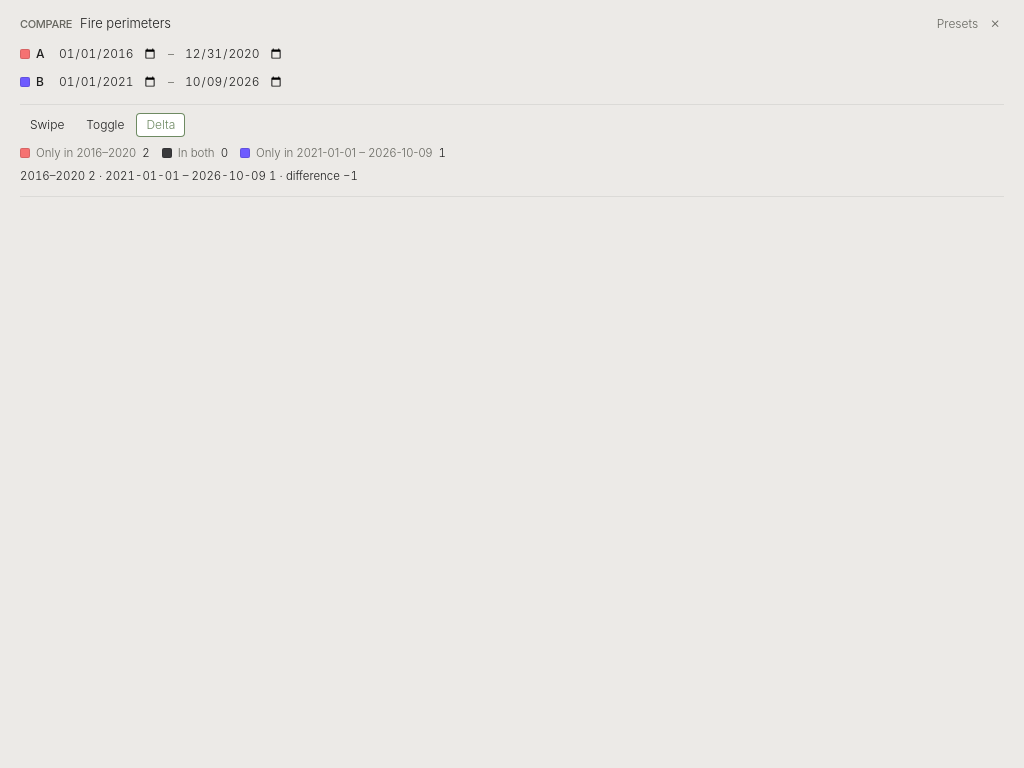
Test: CompareControl › switches mode from the segmented control
The width and height of the screenshot is (1024, 768).
Click the button "Swipe". click: (47,124)
box: [20,112,74,136]
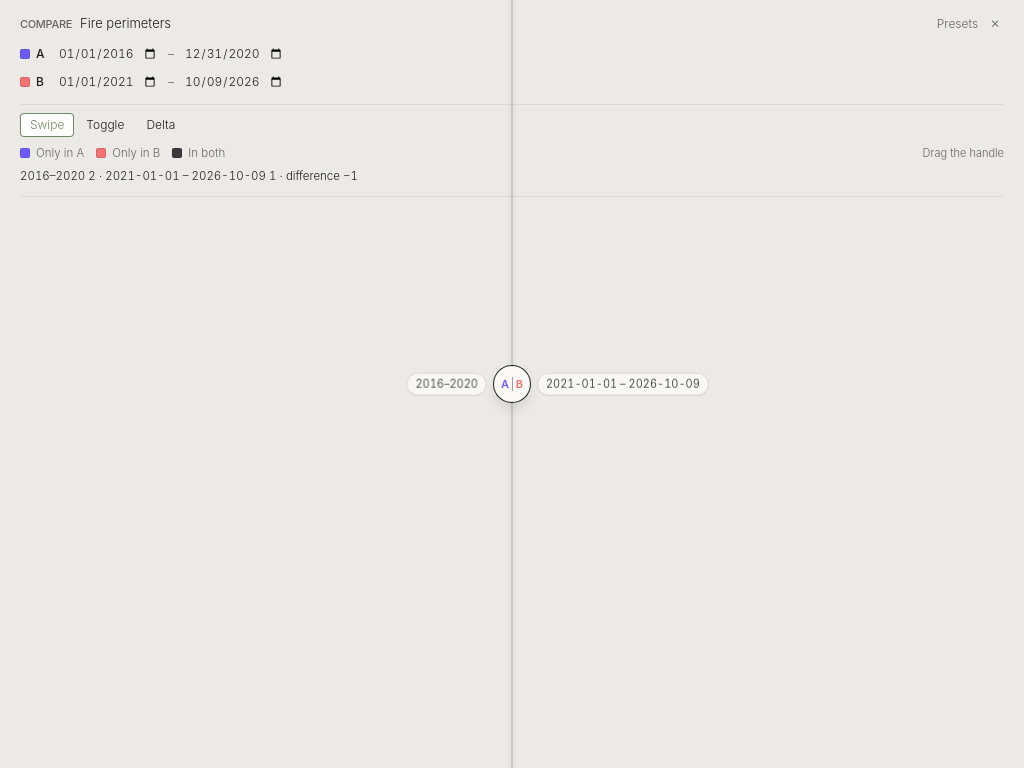
Check: the slider with test id "compare-handle" is shown, box [494,366,530,402]
